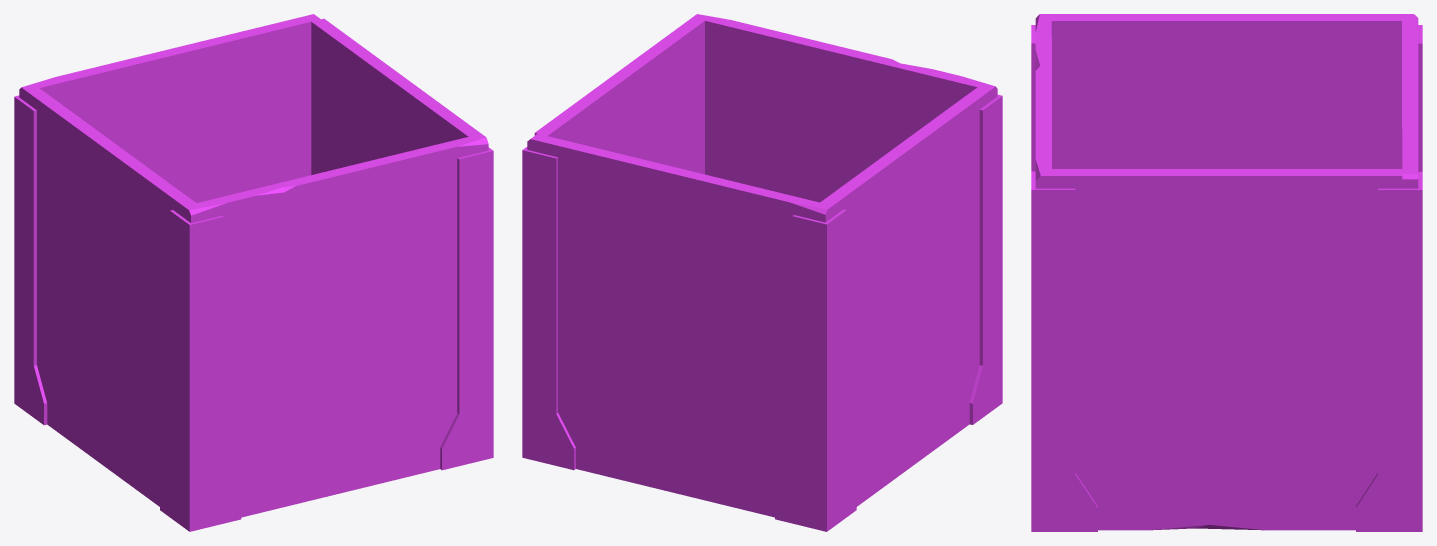
3 renders of one model, left to right at view 1: azimuth 30°, elevation 25°; view 2: azimuth 150°, elevation 25°; view 3: azimuth 270°, elevation 25°, orthographic. The views are drawn at different scales.
Visible parts, largest first — view 1: Box; view 2: Box; view 3: Box.
Part boxes in pixels (bbox=[...]): Box: bbox=[14, 14, 493, 531]; Box: bbox=[522, 14, 1002, 531]; Box: bbox=[1031, 14, 1422, 531].
Size of the model in its own units: 48 by 48 by 48.
